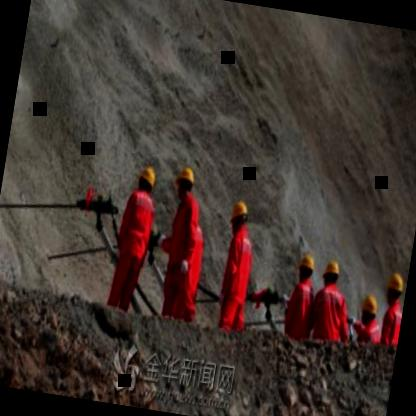helmet: (354, 292, 381, 333), (382, 265, 407, 309), (170, 163, 196, 202), (226, 196, 252, 233), (135, 160, 159, 200), (318, 257, 344, 290), (293, 252, 316, 286)
